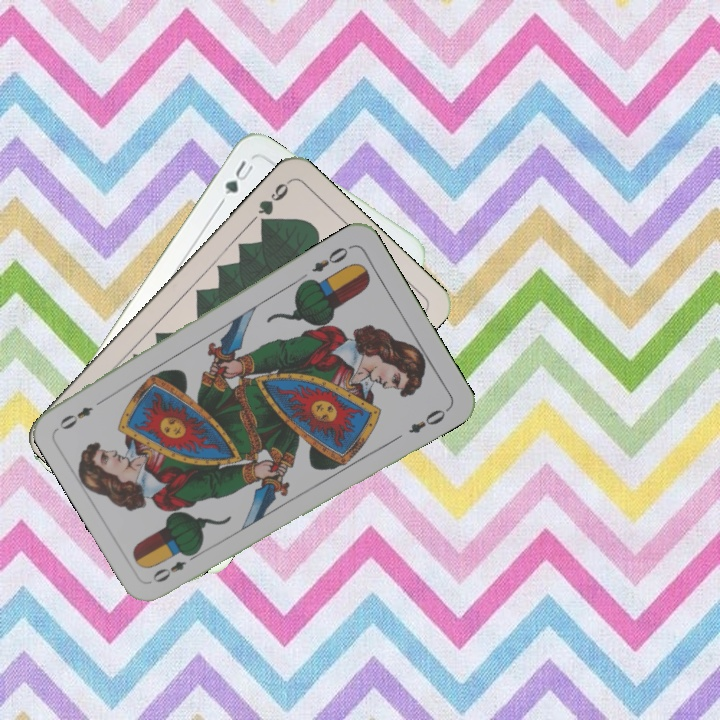EO: (148, 547, 202, 586), (308, 241, 354, 275)
G9: (253, 176, 293, 230)
GU: (216, 156, 256, 206)
